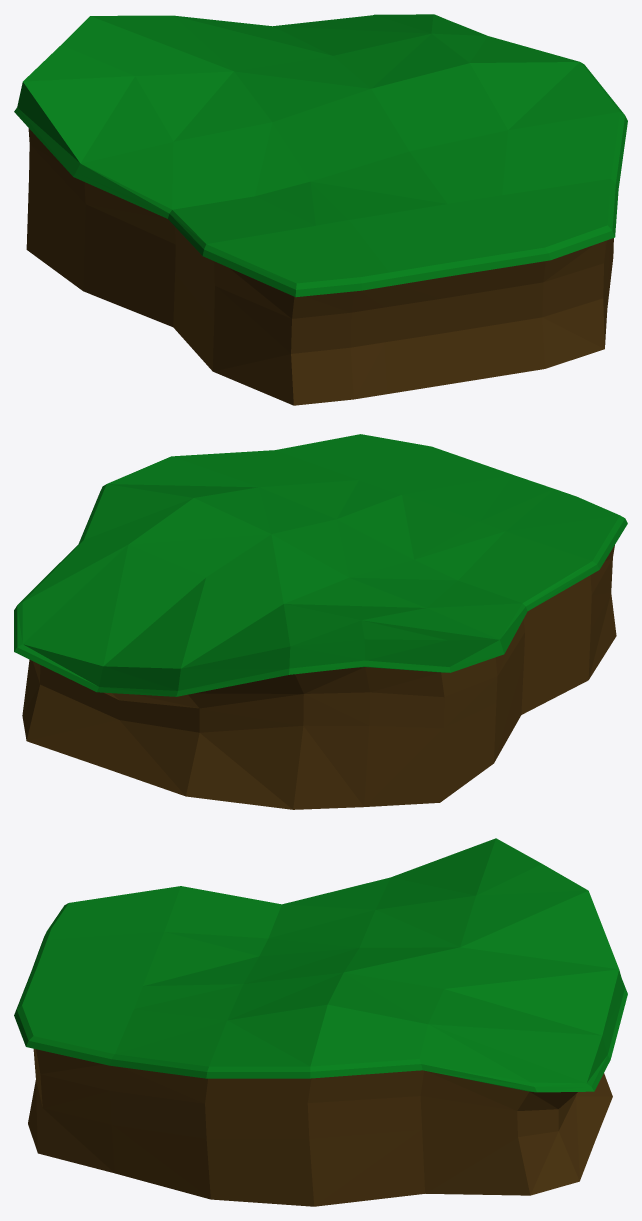
Rendered from Grondstuk_3.fbx.
3 views of the same model, one above another, from view 1: azimuth 30°, elevation 25°; view 2: azimuth 150°, elevation 25°; view 3: azimuth 270°, elevation 25° (orthographic). The views are drawn at different scales.
Visible parts, largest first — view 1: Grondstuk_3; view 2: Grondstuk_3; view 3: Grondstuk_3.
Part boxes in pixels (x1,y1,x2,y2): Grondstuk_3: (14, 14, 627, 405); Grondstuk_3: (14, 434, 627, 809); Grondstuk_3: (14, 838, 627, 1206).
Bounding box in the file's own units: 10.72 × 3.8 × 12.9.
